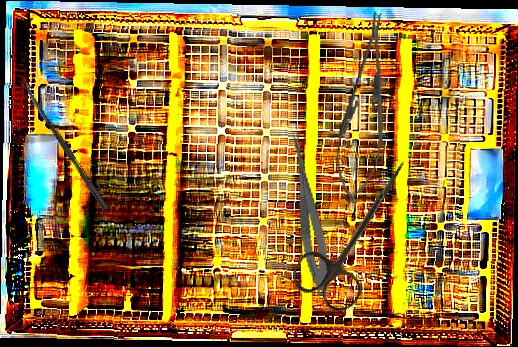Iris Scissors: (286, 142, 431, 318)
Micro Scissor: (280, 126, 336, 298)
Needle Holder: (328, 9, 402, 206)
Surgical Spoon: (20, 79, 110, 212)
